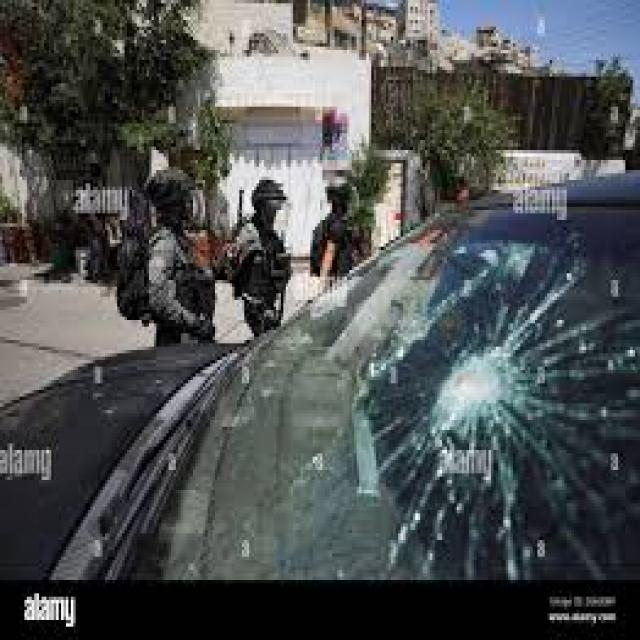damaged-windscreen: (141, 195, 640, 585)
